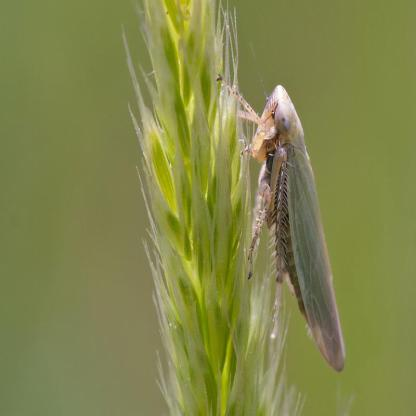Green-Leafhopper: (223, 80, 348, 378)
